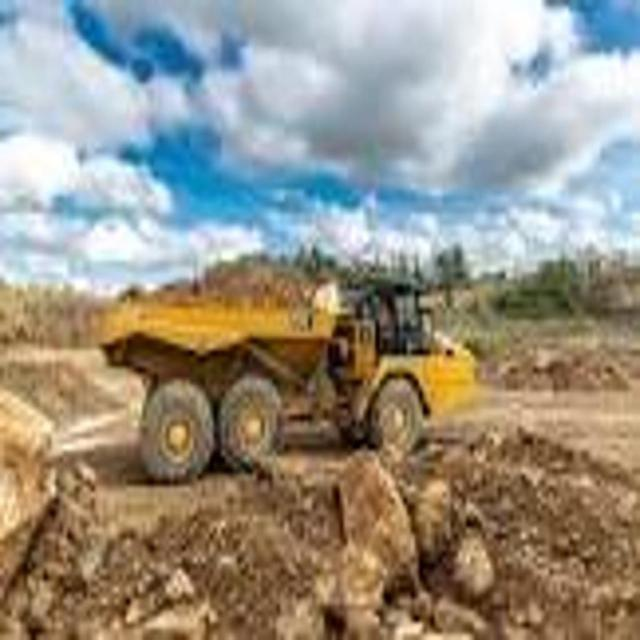dump_truck: (96, 248, 482, 479)
